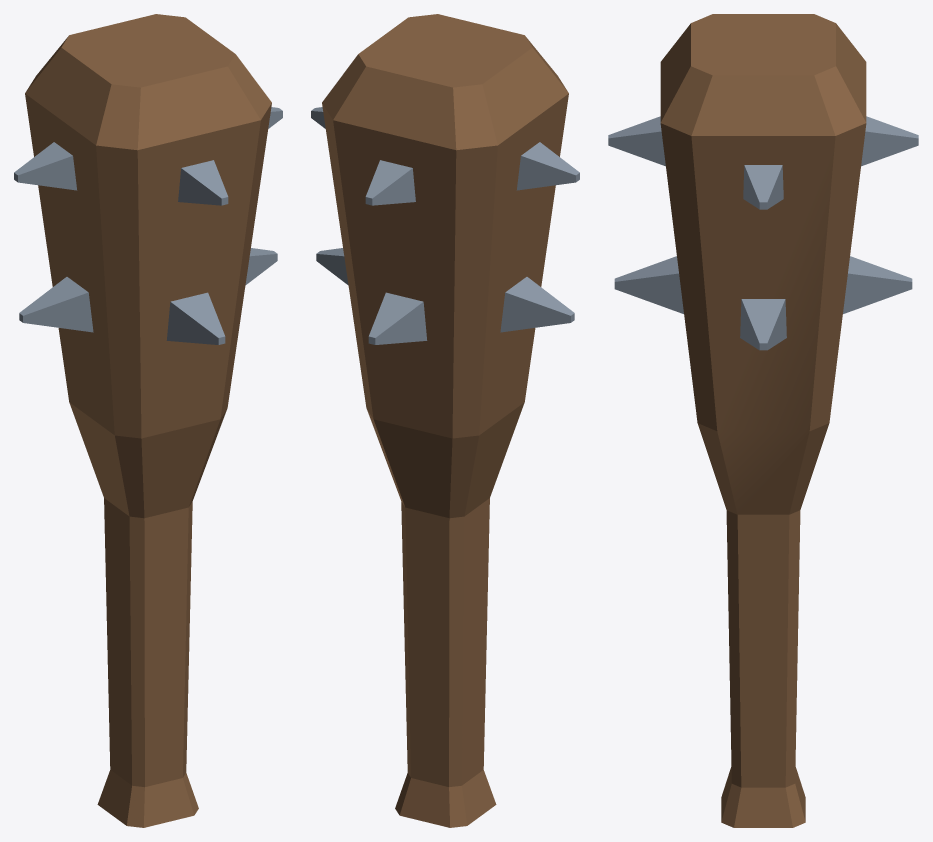
The model's file is GoblinClub.glb.
3 views of the same model, side by side, from view 1: azimuth 30°, elevation 25°; view 2: azimuth 150°, elevation 25°; view 3: azimuth 270°, elevation 25° (orthographic).
Visible parts, largest first — view 1: Goblin.412; view 2: Goblin.412; view 3: Goblin.412.
Boxes of the visible parts, x1,y1,x2,y2 form: Goblin.412: [14, 14, 282, 827]; Goblin.412: [311, 14, 579, 827]; Goblin.412: [608, 14, 918, 827].
Size of the model in its own units: 0.2349 by 0.64 by 0.2349.
